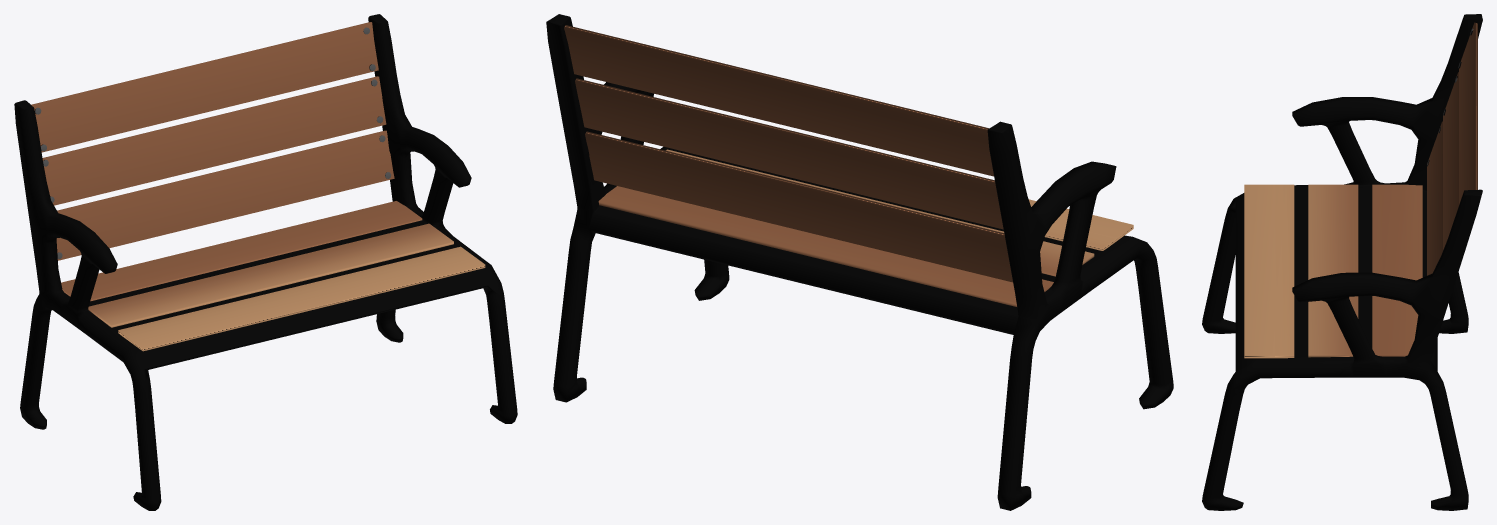
Rendered from bench_001.glb.
3 renders of one model, left to right at view 1: azimuth 30°, elevation 25°; view 2: azimuth 150°, elevation 25°; view 3: azimuth 270°, elevation 25°, orthographic. The views are drawn at different scales.
Visible parts, largest first — view 1: bench.001; view 2: bench.001; view 3: bench.001.
Part boxes in pixels (x1,y1,x2,y2): bench.001: [14, 14, 517, 510]; bench.001: [546, 14, 1173, 510]; bench.001: [1202, 14, 1482, 510].
Bounding box in the file's own units: 1.4 × 1.12 × 0.8996.
1 material, 1 textured.
